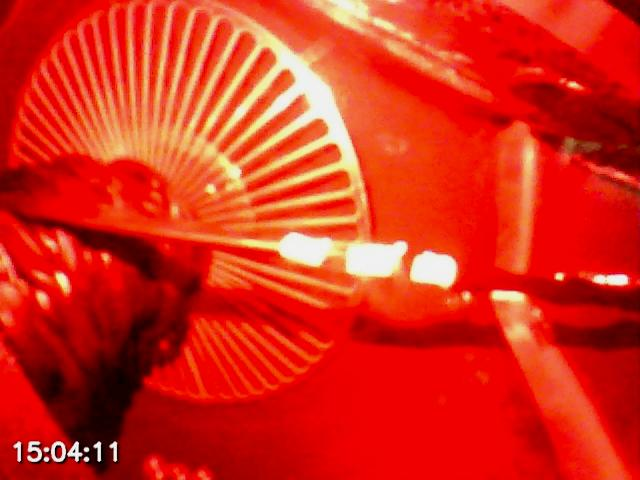white-dots: (277, 231, 458, 291)
